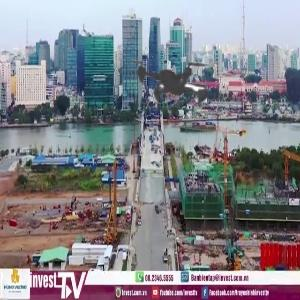drone: (100, 16, 248, 164)
